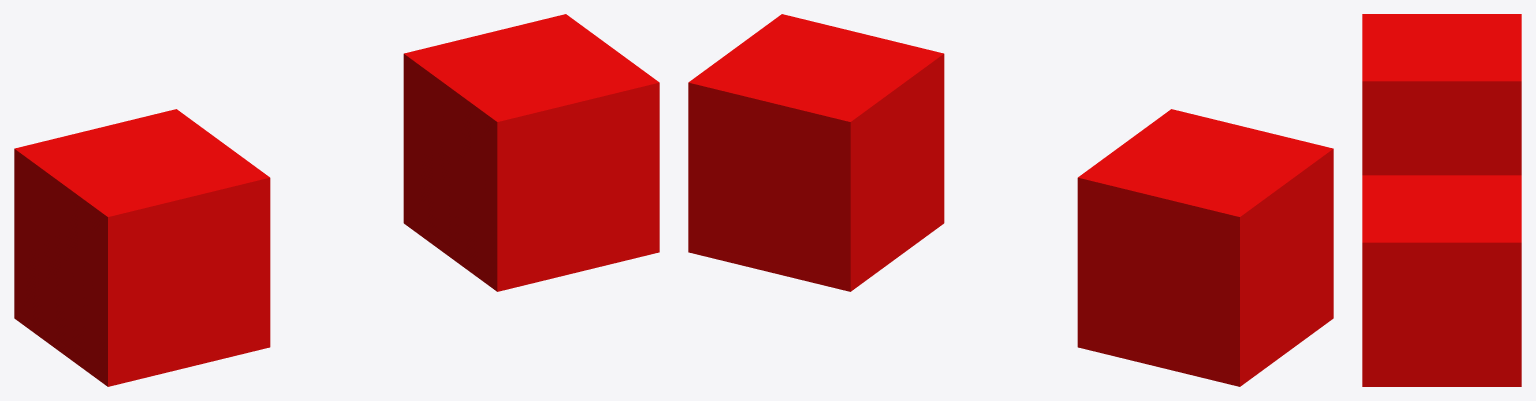
The picture shows the model from 3 angles, left to right: view 1: azimuth 30°, elevation 25°; view 2: azimuth 150°, elevation 25°; view 3: azimuth 270°, elevation 25°; orthographic projection. The views are drawn at different scales.
Parts seen in each view (by area): view 1: BoxA, BoxB; view 2: BoxA, BoxB; view 3: BoxB, BoxA.
Boxes of the visible parts, x1,y1,x2,y2 form: BoxA: [14, 109, 270, 386]; BoxB: [403, 14, 659, 291]; BoxA: [1077, 109, 1333, 386]; BoxB: [688, 14, 944, 291]; BoxB: [1362, 175, 1521, 386]; BoxA: [1362, 14, 1521, 175].
Size of the model in its own units: 3.4 by 1 by 1.
Materials: 1 (1 with a texture image).
